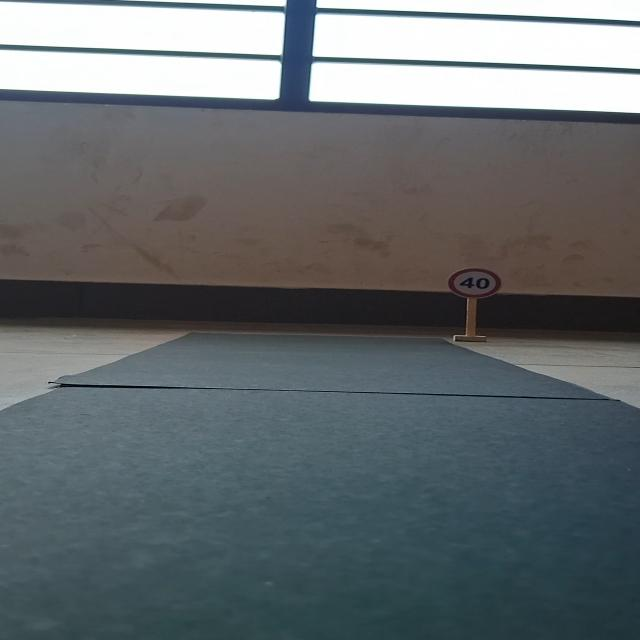Speed40: (443, 261, 507, 300)
